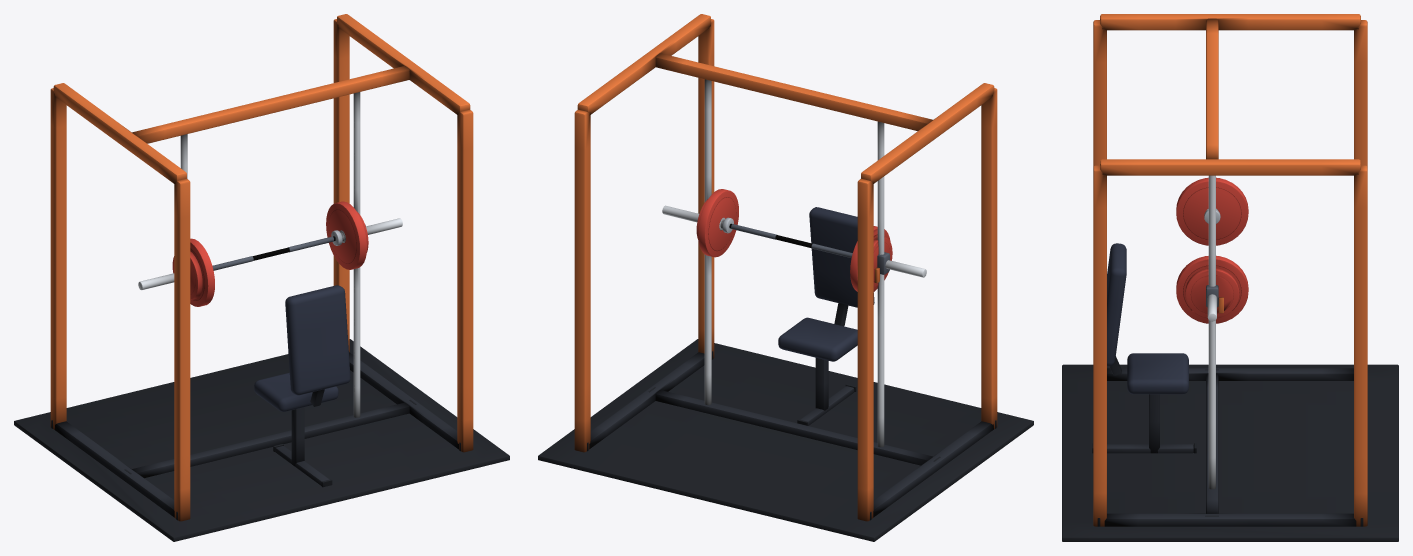
Rendered from m_smith.glb.
The picture shows the model from 3 angles, left to right: view 1: azimuth 30°, elevation 25°; view 2: azimuth 150°, elevation 25°; view 3: azimuth 270°, elevation 25°; orthographic projection. The views are drawn at different scales.
Parts seen in each view (by area): view 1: static, o23; view 2: static, o23; view 3: static, o23.
Boxes of the visible parts, bbox=[...] form: static: bbox=[14, 14, 509, 541]; o23: bbox=[138, 201, 402, 306]; static: bbox=[538, 14, 1033, 541]; o23: bbox=[662, 189, 926, 291]; static: bbox=[1062, 14, 1398, 541]; o23: bbox=[1176, 177, 1248, 323].
Bounding box in the file's own units: 2.26 × 2.24 × 1.86.
